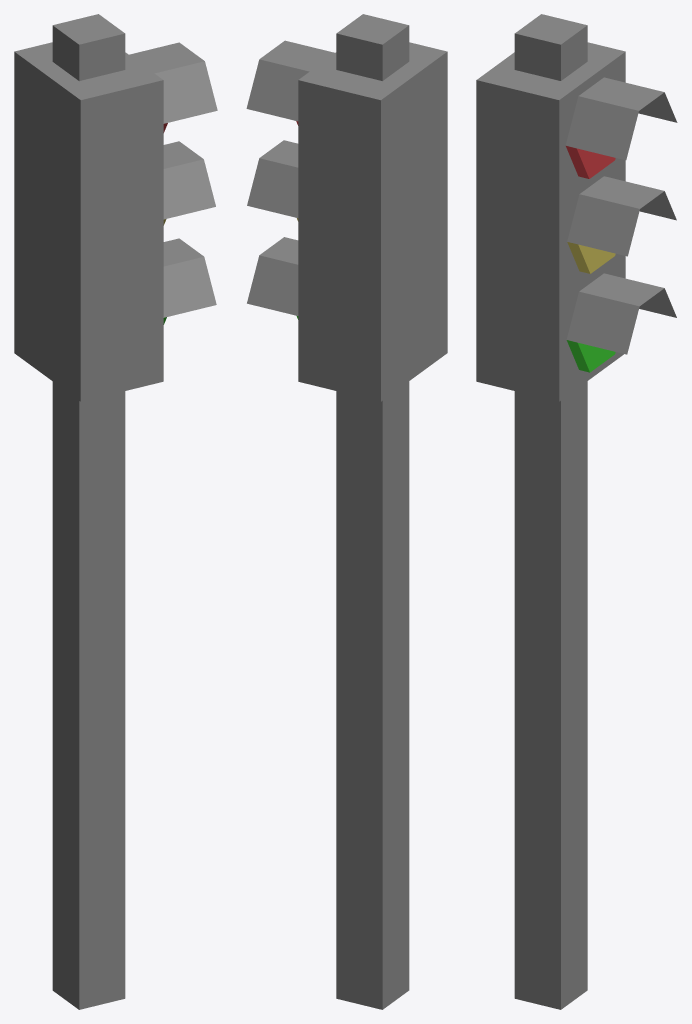
Rendered from trafficLight.fbx.
The picture shows the model from 3 angles, left to right: view 1: azimuth 30°, elevation 25°; view 2: azimuth 150°, elevation 25°; view 3: azimuth 330°, elevation 25°; orthographic projection.
Parts seen in each view (by area): view 1: Cube.001, Cube; view 2: Cube.001, Cube; view 3: Cube.001, Cube.
Boxes of the visible parts, x1,y1,x2,y2 form: Cube.001: (14, 42, 217, 401); Cube: (52, 14, 125, 1009); Cube.001: (246, 40, 447, 401); Cube: (336, 14, 409, 1009); Cube.001: (476, 42, 677, 401); Cube: (514, 14, 587, 1009).
Bounding box in the file's own units: 124 × 800 × 100.
